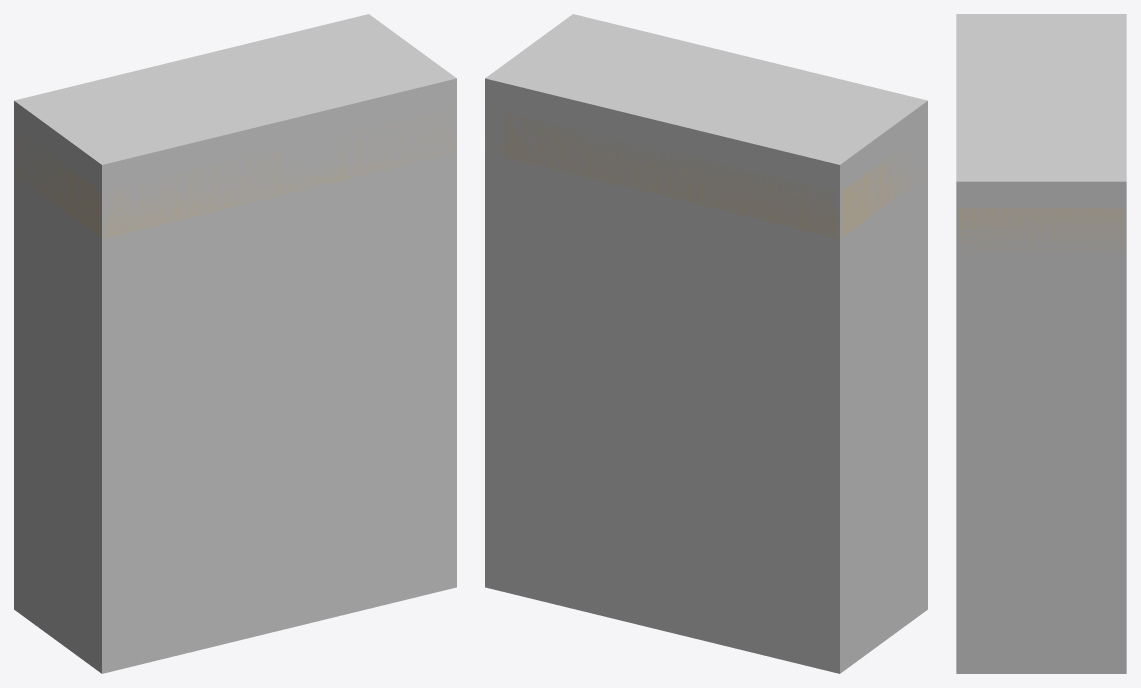
Rendered from feature-gondola_basic.glb.
3 renders of one model, left to right at view 1: azimuth 30°, elevation 25°; view 2: azimuth 150°, elevation 25°; view 3: azimuth 270°, elevation 25°, orthographic. The views are drawn at different scales.
Parts seen in each view (by area): view 1: COL_feature-gondola, MESH_DisplayTop; view 2: COL_feature-gondola, MESH_DisplayTop; view 3: COL_feature-gondola, MESH_DisplayTop.
Boxes of the visible parts, x1,y1,x2,y2 form: COL_feature-gondola: (14, 14, 456, 673); MESH_DisplayTop: (15, 107, 454, 238); COL_feature-gondola: (485, 14, 927, 673); MESH_DisplayTop: (487, 108, 925, 238); COL_feature-gondola: (956, 14, 1126, 673); MESH_DisplayTop: (958, 208, 1124, 253).
Size of the model in its own units: 1.35 by 1.85 by 0.58.
